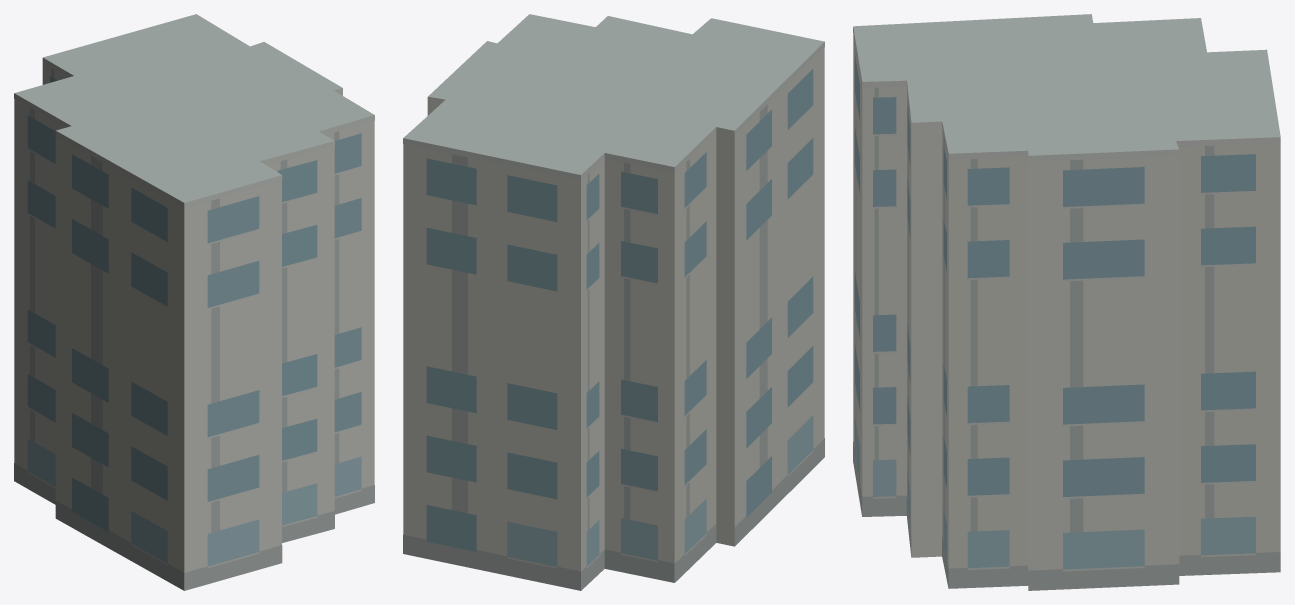
The model's file is survey-upis-32579495.glb.
The picture shows the model from 3 angles, left to right: view 1: azimuth 30°, elevation 25°; view 2: azimuth 150°, elevation 25°; view 3: azimuth 270°, elevation 25°; orthographic projection. The views are drawn at different scales.
Parts seen in each view (by area): view 1: survey-upis-32579495.tmp; view 2: survey-upis-32579495.tmp; view 3: survey-upis-32579495.tmp.
Part boxes in pixels (x1,y1,x2,y2): survey-upis-32579495.tmp: (14,14,374,590); survey-upis-32579495.tmp: (403,14,824,590); survey-upis-32579495.tmp: (853,14,1280,590).
Size of the model in its own units: 12.03 by 17.2 by 15.33.
